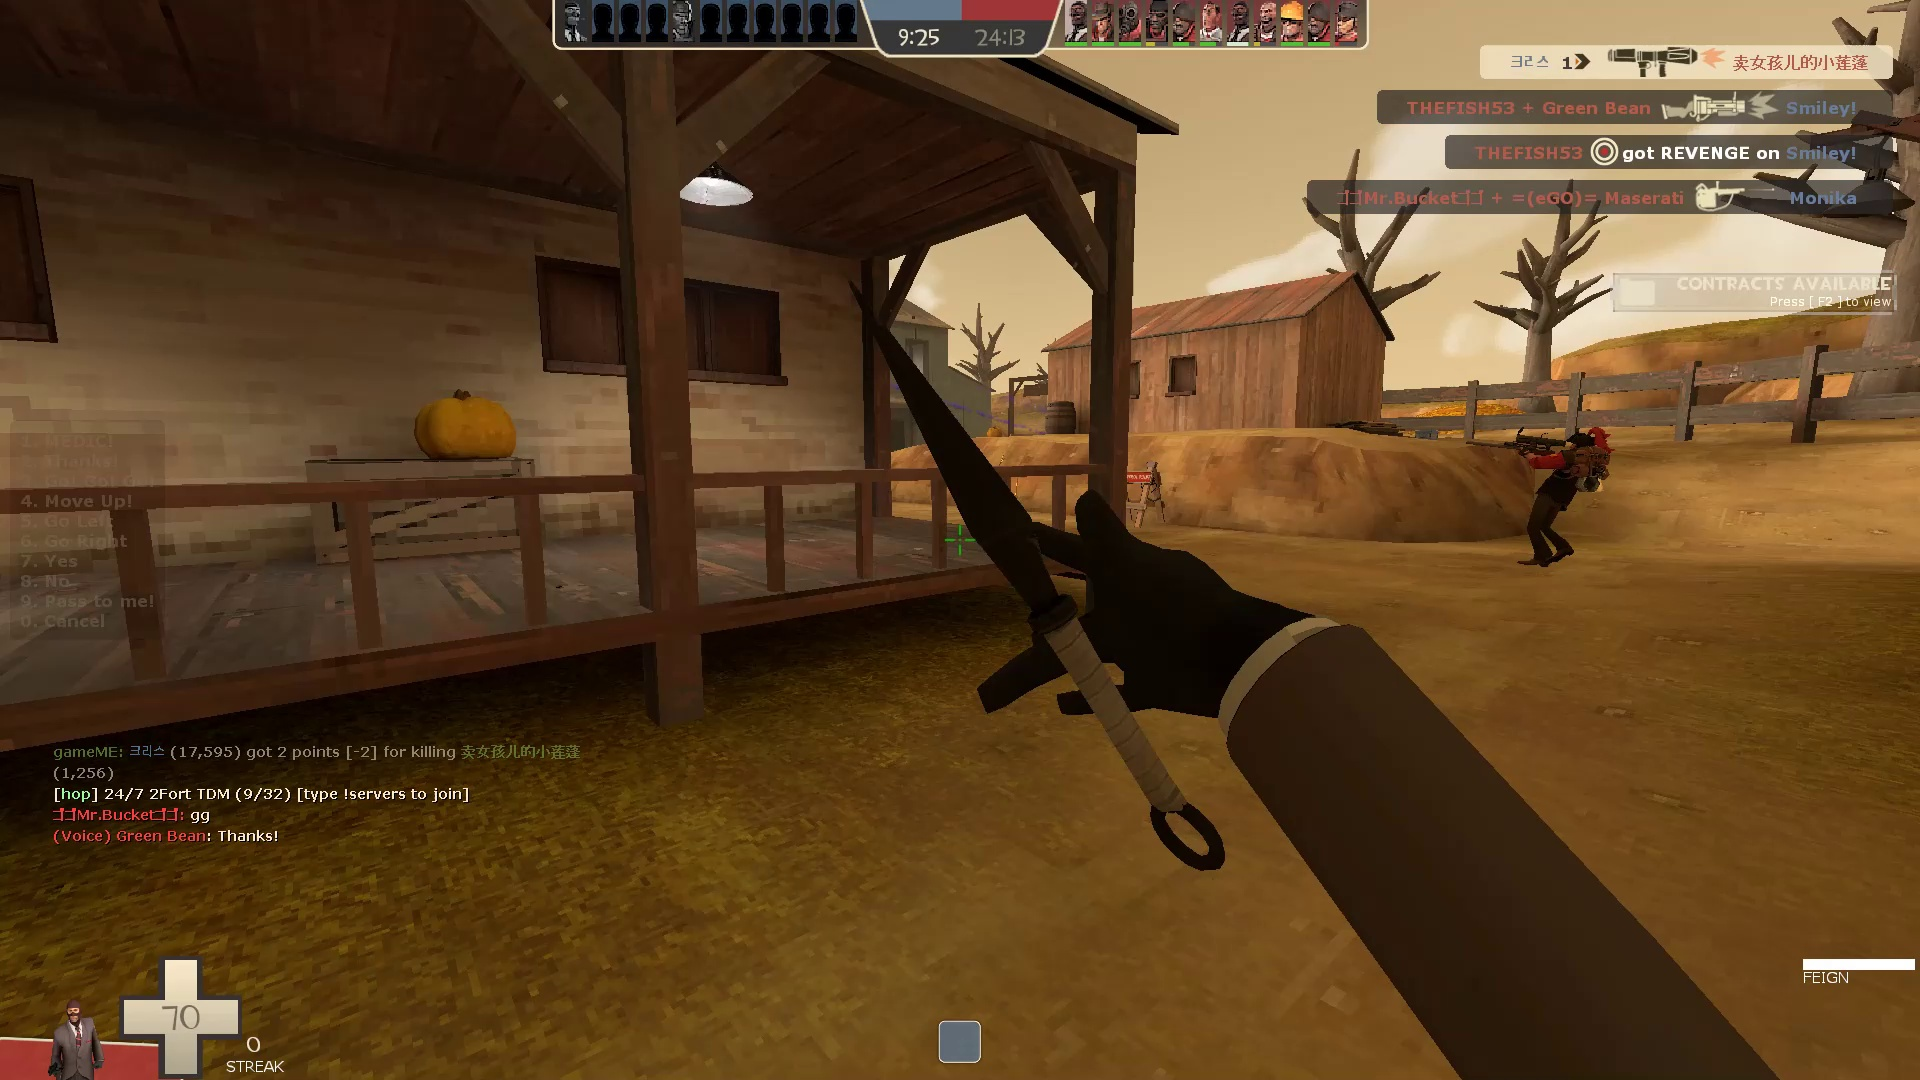red_sniper: (1460, 425, 1613, 575)
